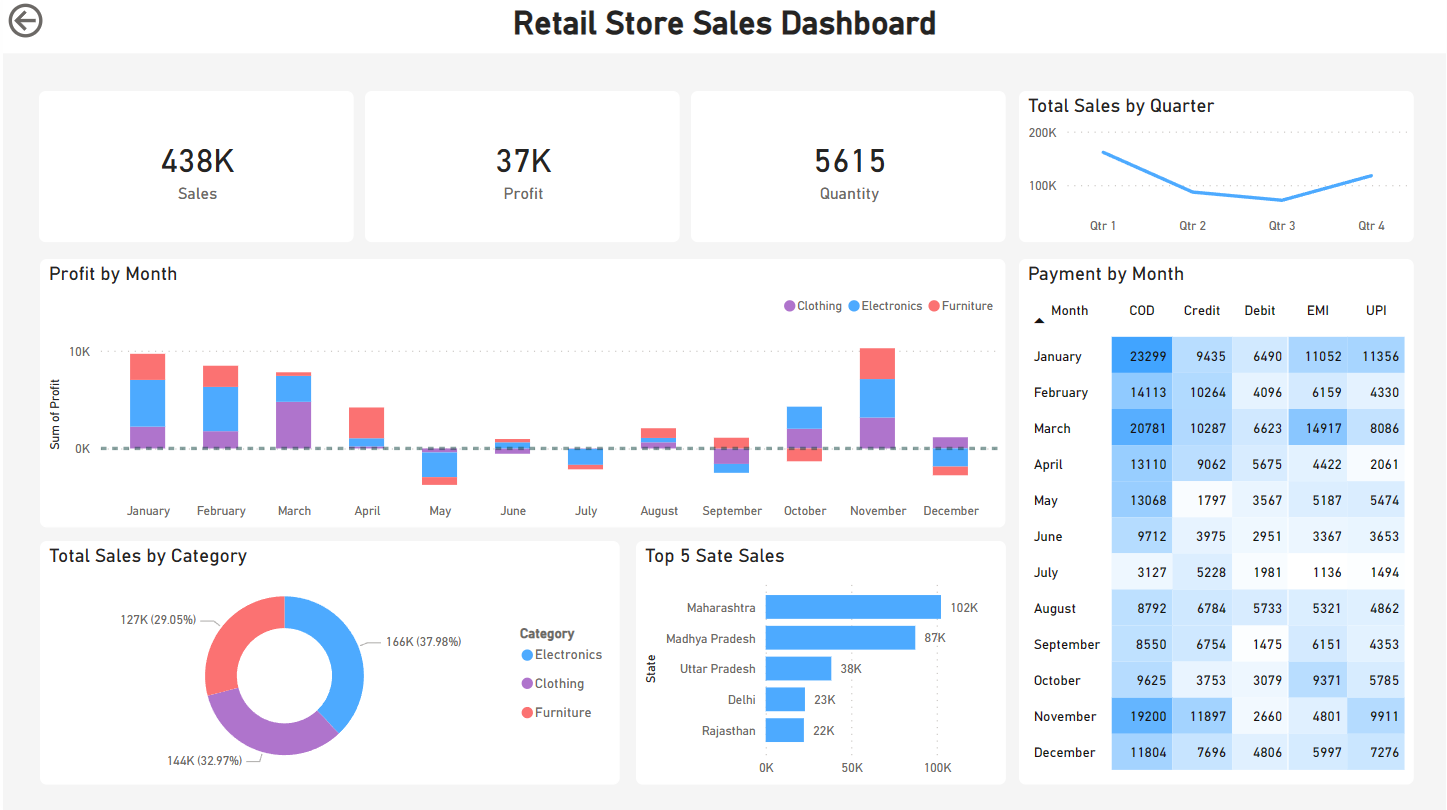

Layout of this report page (visuals, bound fields, positions):
{"tool":"powerbi","page":{"name":"Page 1","canvas":[1280,720],"ordinal":0},"visuals":[{"type":"textbox","box":[0,0,1280,48.6],"z":0},{"type":"card","fields":{"Values":["Sum(Details.Amount)"]},"box":[32.1,82.7,279.1,134.2],"z":1000},{"type":"actionButton","box":[0,0,100,40],"z":2000},{"type":"donutChart","title":"Total Sales by Category","fields":{"Y":["Sum(Details.Amount)"],"Category":["Details.Category"]},"box":[33.1,481.5,513.6,215.9],"z":3000},{"type":"columnChart","title":"Profit by Month","fields":{"Category":["Orders.Order Date.Variation.Date Hierarchy.Month"],"Y":["Sum(Details.Profit)"],"Series":["Details.Category"]},"box":[33.1,231.5,855.9,238.3],"z":4000},{"type":"clusteredBarChart","title":"Top 5 Sate Sales","fields":{"Category":["Orders.State"],"Y":["Sum(Details.Amount)"]},"box":[561.2,481.5,327.8,215.9],"z":5000},{"type":"pivotTable","title":"Payment by Month","fields":{"Values":["Sum(Details.Amount)"],"Rows":["Orders.Order Date.Variation.Date Hierarchy.Month"],"Columns":["Details.PaymentMode"]},"box":[900.7,231.5,350.2,465.9],"z":6000},{"type":"lineChart","fields":{"Y":["Sum(Details.Amount)"],"Category":["Orders.Order Date.Variation.Date Hierarchy.Quarter"]},"box":[900.7,82.7,350.2,134.2],"z":7000},{"type":"card","fields":{"Values":["Sum(Details.Profit)"]},"box":[321,82.7,279.1,134.2],"z":8000},{"type":"card","fields":{"Values":["Sum(Details.Quantity)"]},"box":[609.8,82.7,279.1,134.2],"z":9000}]}

Visuals, with their boxes in screenshot pixels (x1, y1, x2, y2), scaled from the page's 1280x720 canvas onto the 1447x810 screenshot:
textbox: (0,0,1446,55)
card - Sum(Details.Amount): (36,93,352,244)
actionButton: (0,0,113,45)
"Total Sales by Category" donutChart: (37,542,618,785)
"Profit by Month" columnChart: (37,260,1005,529)
"Top 5 Sate Sales" clusteredBarChart: (634,542,1005,785)
"Payment by Month" pivotTable: (1018,260,1414,785)
lineChart - Sum(Details.Amount) x Orders.Order Date.Variation.Date Hierarchy.Quarter: (1018,93,1414,244)
card - Sum(Details.Profit): (363,93,678,244)
card - Sum(Details.Quantity): (689,93,1005,244)
